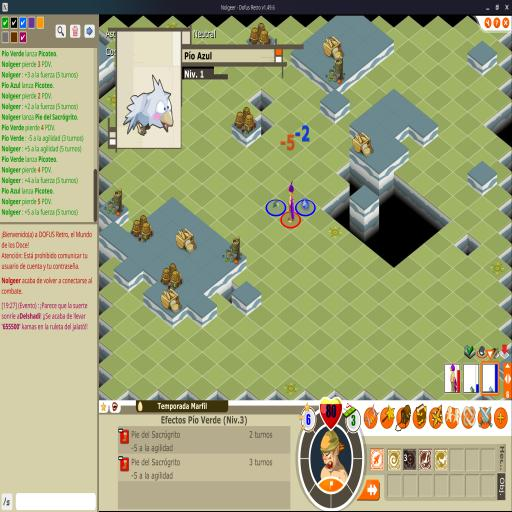Enemigos: (272, 199, 280, 210), (302, 199, 310, 210)
Personaje: (286, 180, 296, 224)
